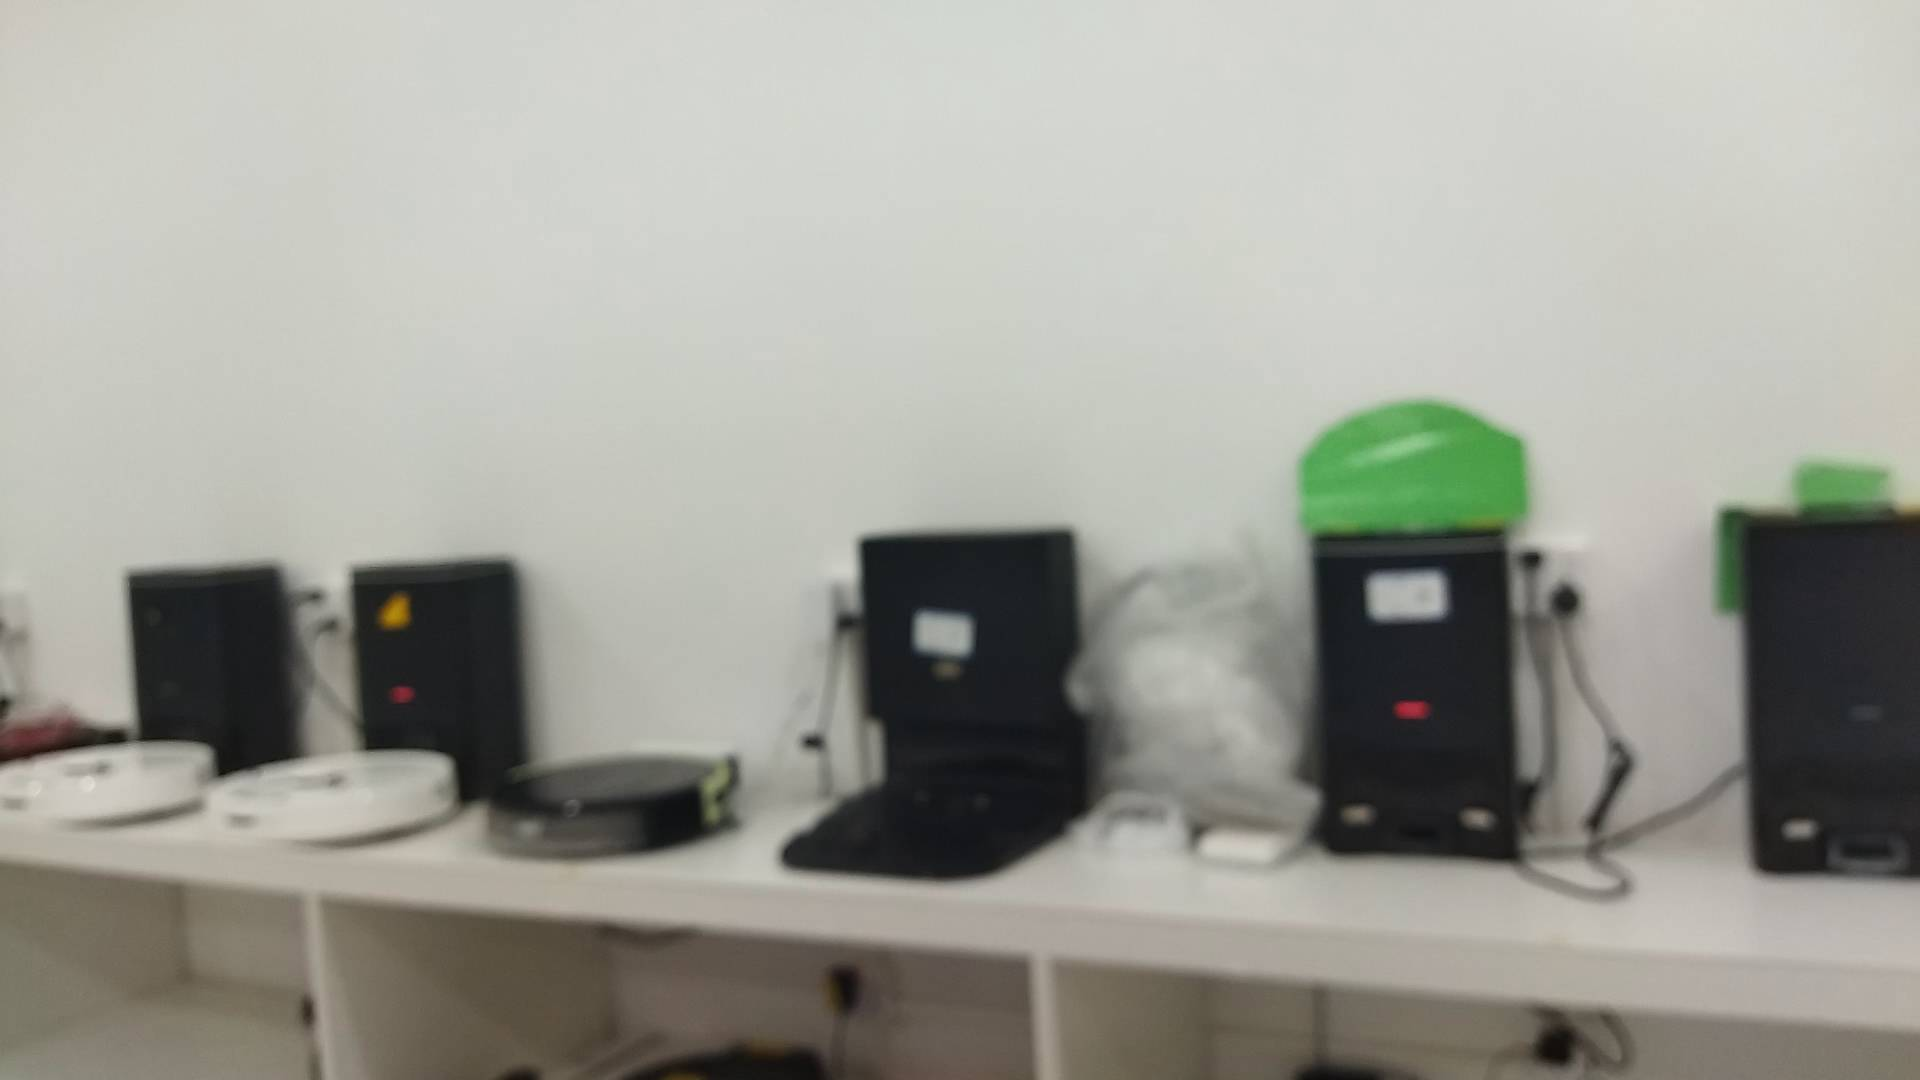dust collecting barrel: (781, 527, 1085, 881), (1315, 531, 1518, 862), (1746, 513, 1920, 878), (353, 560, 525, 802), (127, 567, 293, 778)
